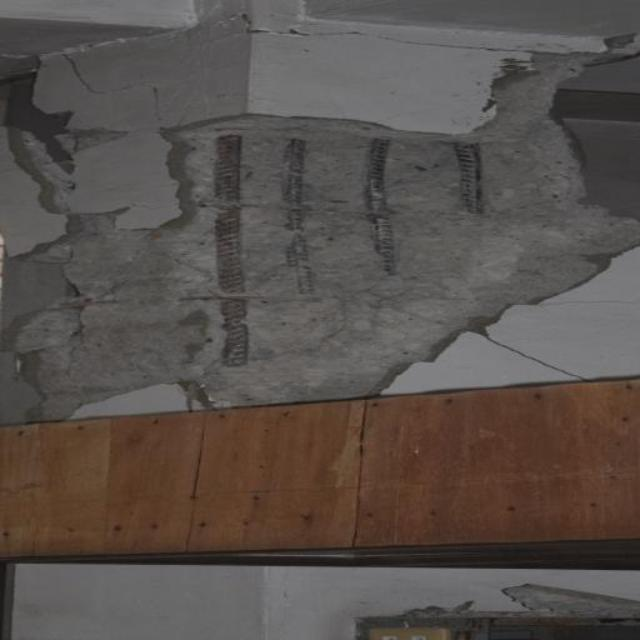D0w0: (22, 58, 637, 413)
